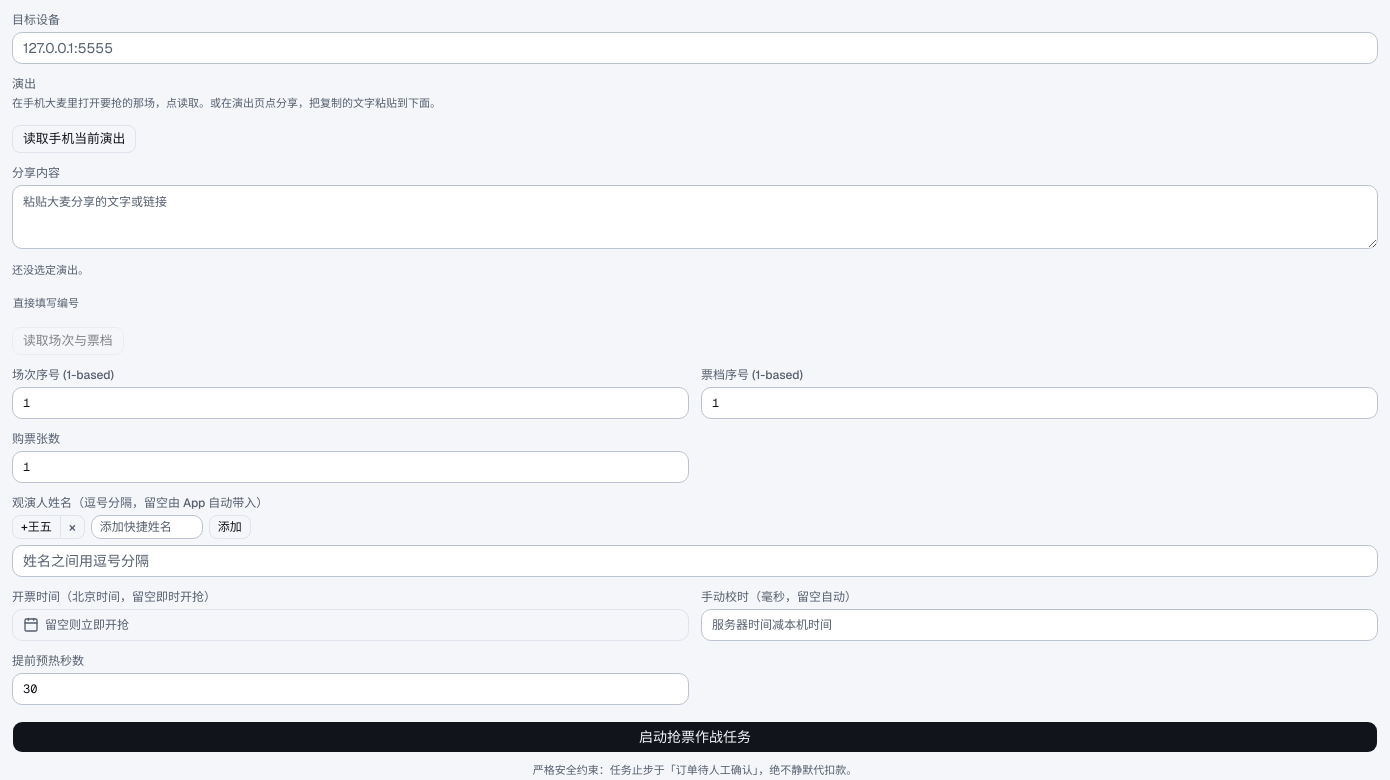
Test: TaskForm 观演人快捷项 › 移除后按剩余名单保存
This screenshot has width=1390, height=780.
What coordinates should you click on to do the following:
click the button named "移除快捷姓名 王五"
I would click on:
 (73, 527)
Its box is [61,515,85,539].
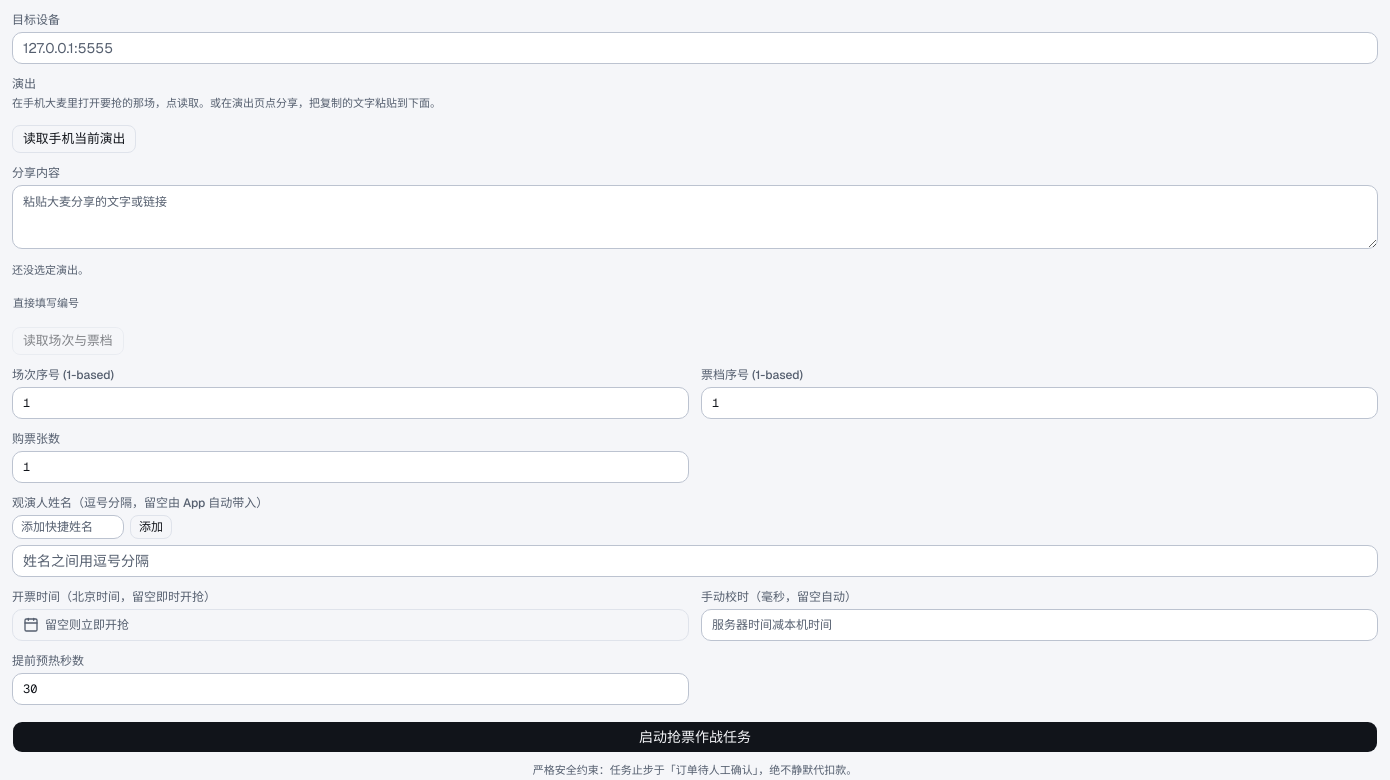
Check: the field labelled "添加快捷姓名" is shown, box [12,515,124,539]
Check: the button "+王五" is gone
